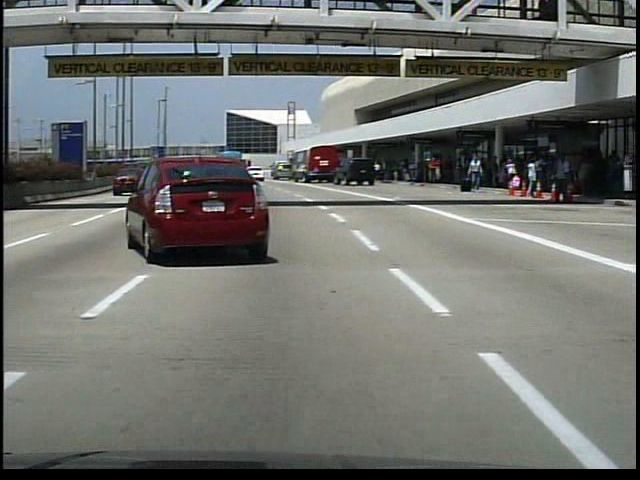person: (549, 154, 570, 206), (467, 155, 486, 194), (427, 155, 442, 184), (372, 161, 384, 181)
